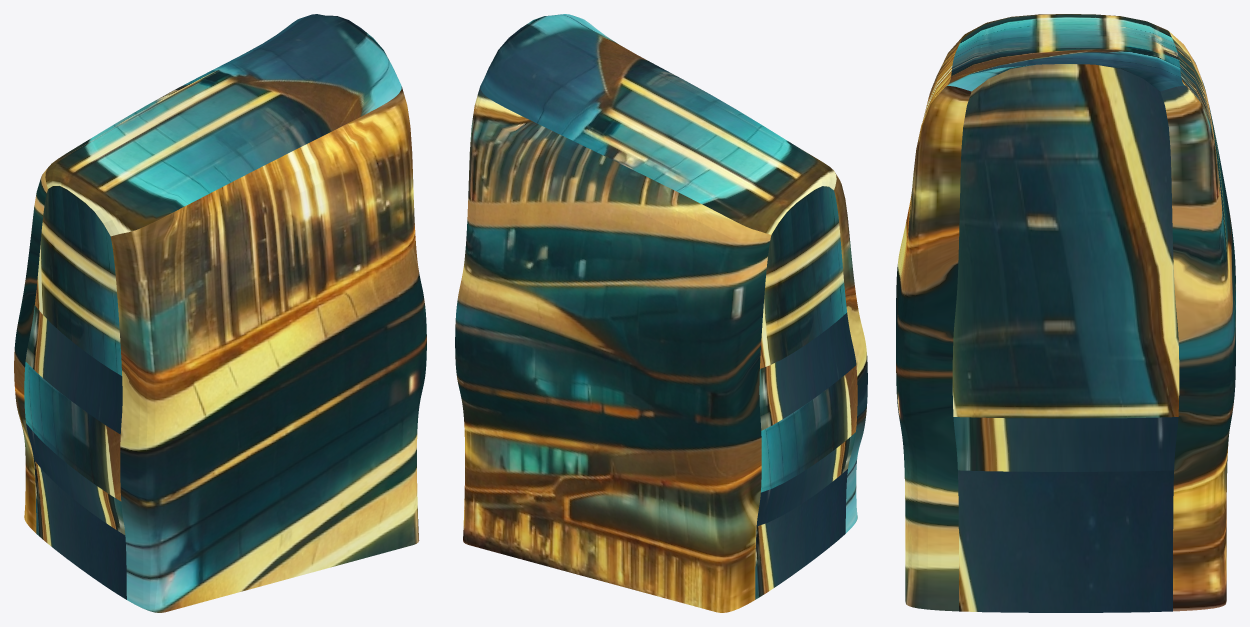
Rendered from bank.glb.
The picture shows the model from 3 angles, left to right: view 1: azimuth 30°, elevation 25°; view 2: azimuth 150°, elevation 25°; view 3: azimuth 270°, elevation 25°; orthographic projection. The views are drawn at different scales.
Visible parts, largest first — view 1: Bank; view 2: Bank; view 3: Bank.
Part boxes in pixels (box(x1,y1,x2,y2)): Bank: box(14, 14, 426, 612); Bank: box(455, 14, 867, 612); Bank: box(896, 14, 1235, 612).
Bounding box in the file's own units: 0.9842 × 1.46 × 0.8109.
1 material, 1 textured.
